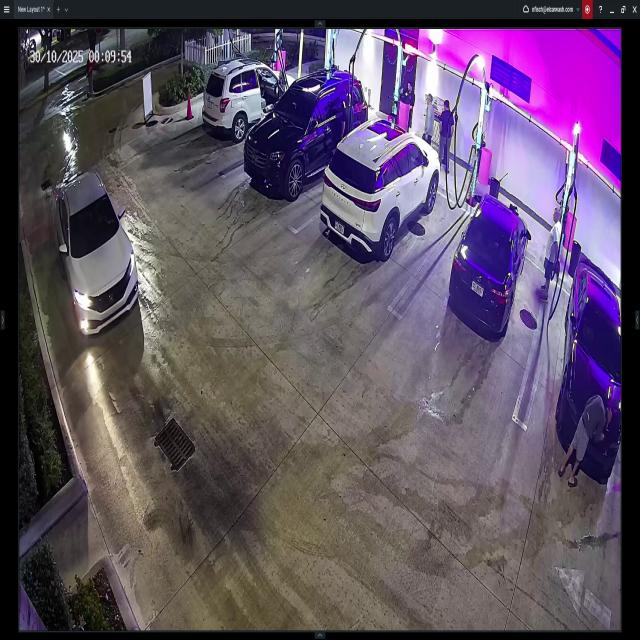Car: (324, 115, 438, 258), (246, 70, 369, 191), (52, 176, 142, 335), (563, 259, 619, 481), (446, 190, 530, 337), (207, 56, 294, 135)
